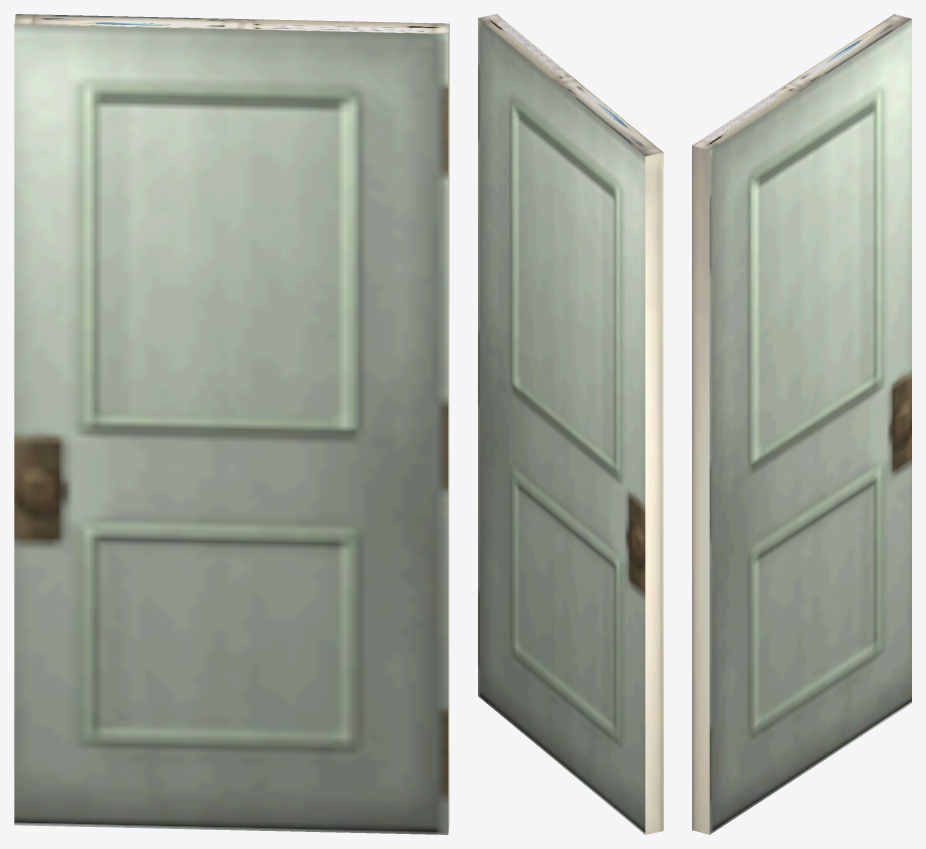
Rendered from BATHROOM01.glb.
3 views of the same model, side by side, from view 1: azimuth 30°, elevation 25°; view 2: azimuth 150°, elevation 25°; view 3: azimuth 270°, elevation 25° (orthographic). The views are drawn at different scales.
Parts seen in each view (by area): view 1: BATHROOM01; view 2: BATHROOM01; view 3: BATHROOM01.
Boxes of the visible parts, x1,y1,x2,y2 form: BATHROOM01: [14, 14, 449, 834]; BATHROOM01: [478, 14, 663, 834]; BATHROOM01: [692, 14, 911, 834].
Bounding box in the file's own units: 219 × 511 × 149.
Materials: 2 (2 with a texture image).
